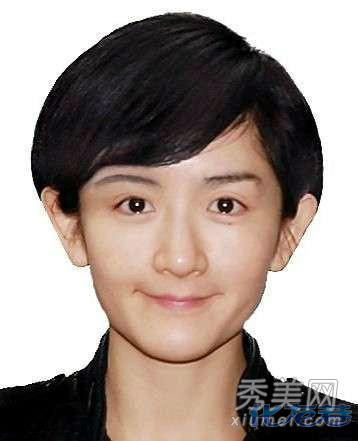unmask: (89, 165, 261, 347)
